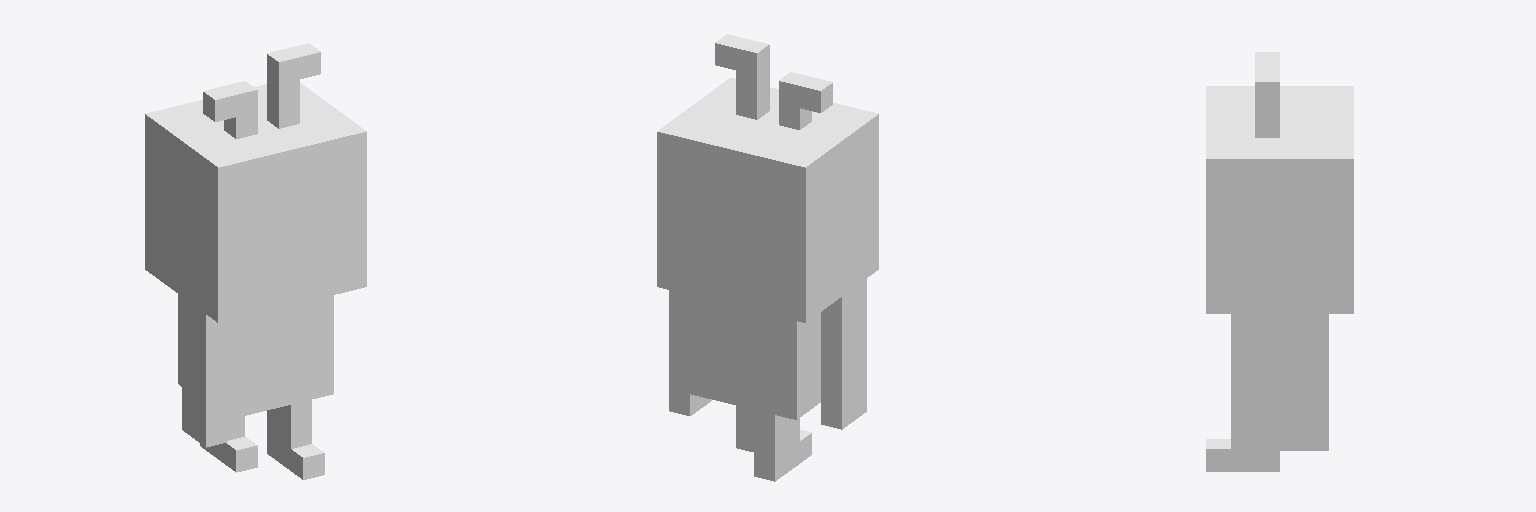
The model's file is alien_walk-01.obj.
3 renders of one model, left to right at view 1: azimuth 30°, elevation 25°; view 2: azimuth 150°, elevation 25°; view 3: azimuth 270°, elevation 25°, orthographic.
Bounding box in the file's own units: 7 × 18 × 6.